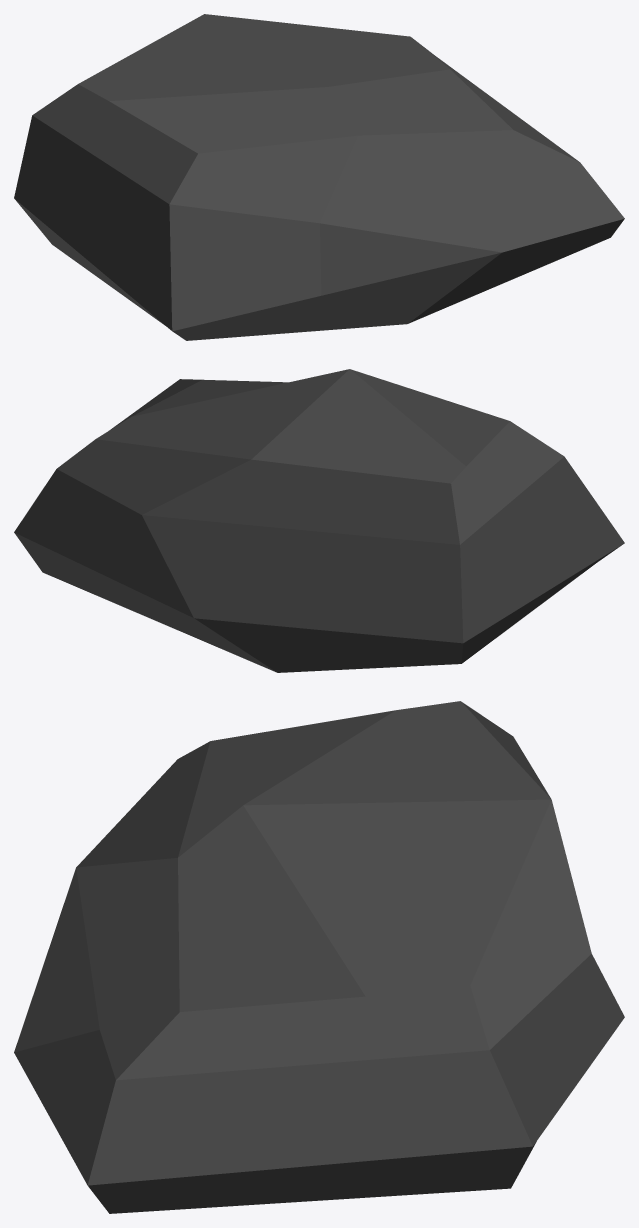
The model's file is stone_6.fbx.
The picture shows the model from 3 angles, top to bottom: view 1: azimuth 30°, elevation 25°; view 2: azimuth 150°, elevation 25°; view 3: azimuth 270°, elevation 25°; orthographic projection. The views are drawn at different scales.
Visible parts, largest first — view 1: stone_6; view 2: stone_6; view 3: stone_6.
Boxes of the visible parts, x1,y1,x2,y2 form: stone_6: (14, 14, 624, 340); stone_6: (14, 369, 624, 672); stone_6: (14, 701, 624, 1213).
Bounding box in the file's own units: 40.82 × 16.05 × 33.67.
